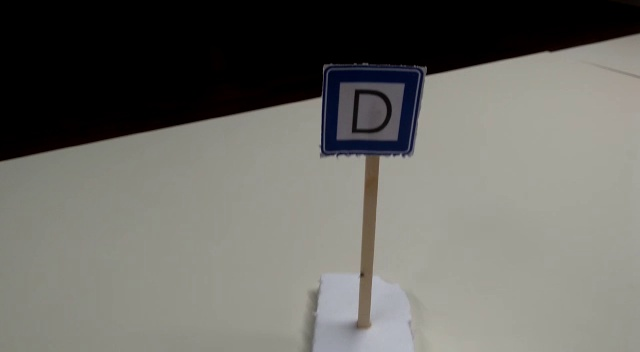durak: (318, 62, 425, 156)
